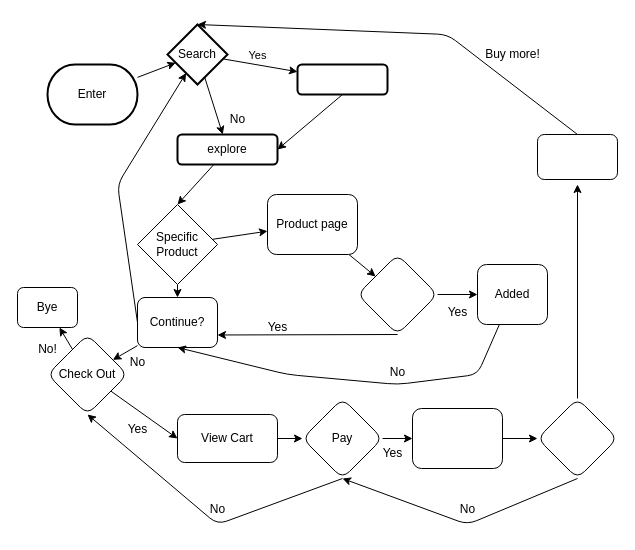
Some shapes in this 635 by 550 pixel diagram are drawn without their labels. The shapes that lost their labels are listed below. From the top down, each one's centre as x and y in pixels, then its label:
At (x=342, y=79): "Input for seach".
At (x=577, y=157): "Email".
At (x=397, y=294): "Add Cart?".
At (x=457, y=438): "Payment page".
At (x=577, y=438): "Paid".
